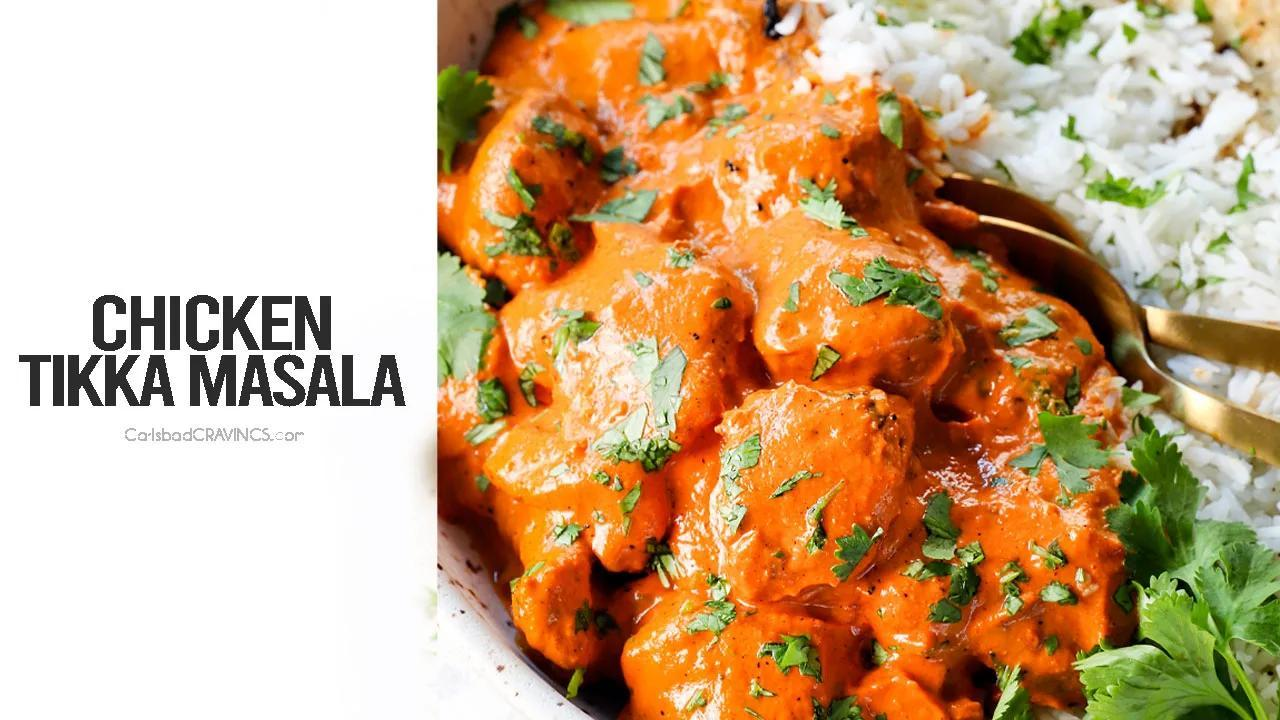chicken: (448, 11, 1070, 710)
rice: (920, 5, 1280, 239)
